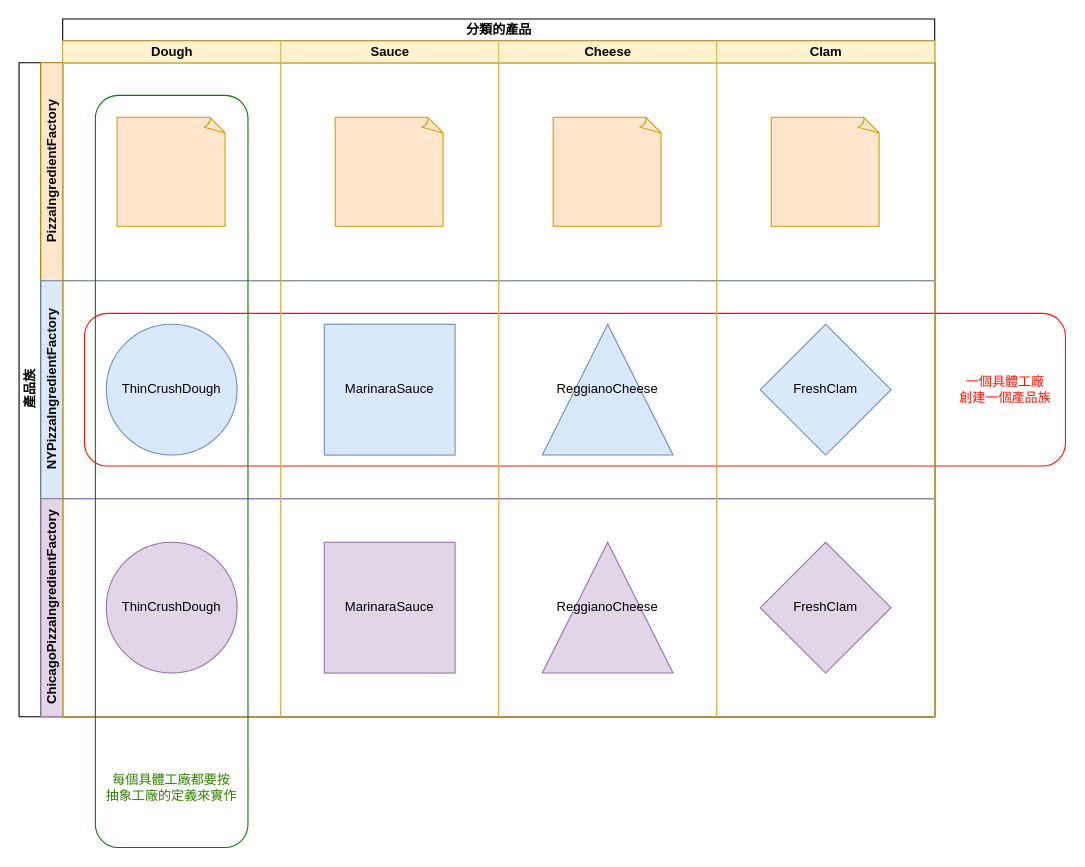
Image size: 1085x867. Some labels were removed from this diagram. The shapes that lost their labels are listed below. From the top down, each one's centre as x and y in pixels, then its label:
At point (171, 171): "Dough Interface".
At point (389, 171): "Sauce Interface".
At point (607, 171): "Cheese Interface".
At point (825, 171): "Clam Interface".
